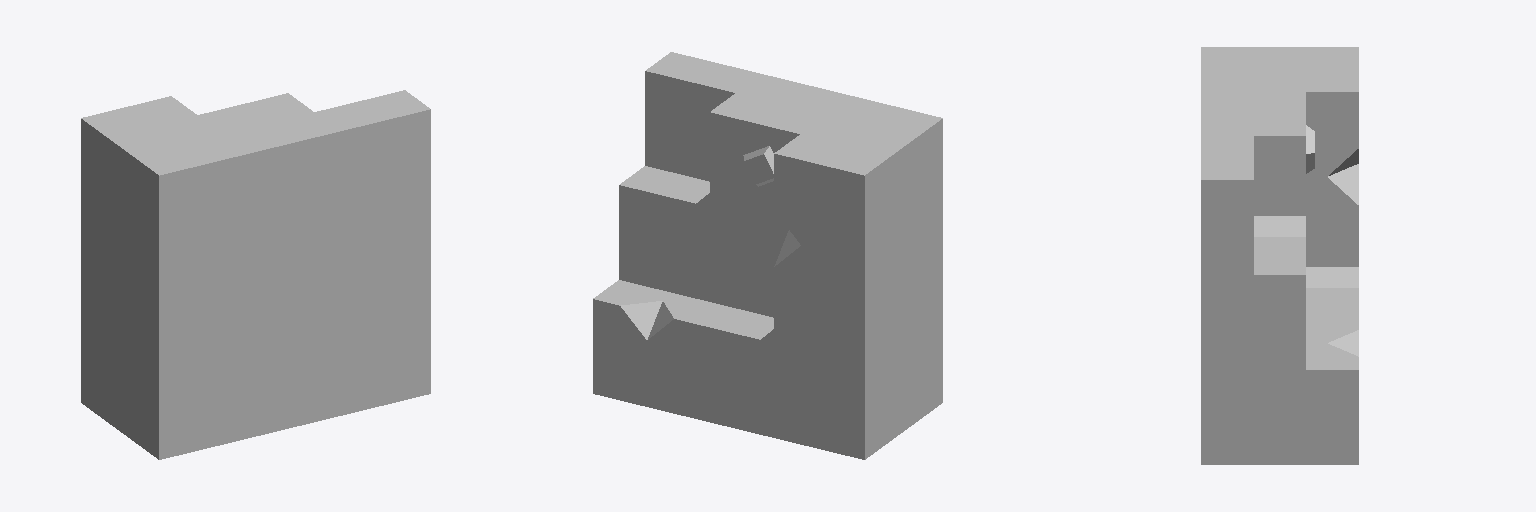
The model's file is stairs-corner-inner.obj.
3 views of the same model, side by side, from view 1: azimuth 30°, elevation 25°; view 2: azimuth 150°, elevation 25°; view 3: azimuth 270°, elevation 25° (orthographic).
Visible parts, largest first — view 1: stairs-corner-inner; view 2: stairs-corner-inner; view 3: stairs-corner-inner.
Part boxes in pixels (x1,y1,x2,y2): stairs-corner-inner: (81, 90, 430, 459); stairs-corner-inner: (593, 52, 942, 459); stairs-corner-inner: (1201, 47, 1358, 464).
Size of the model in its own units: 1 by 1 by 0.5.